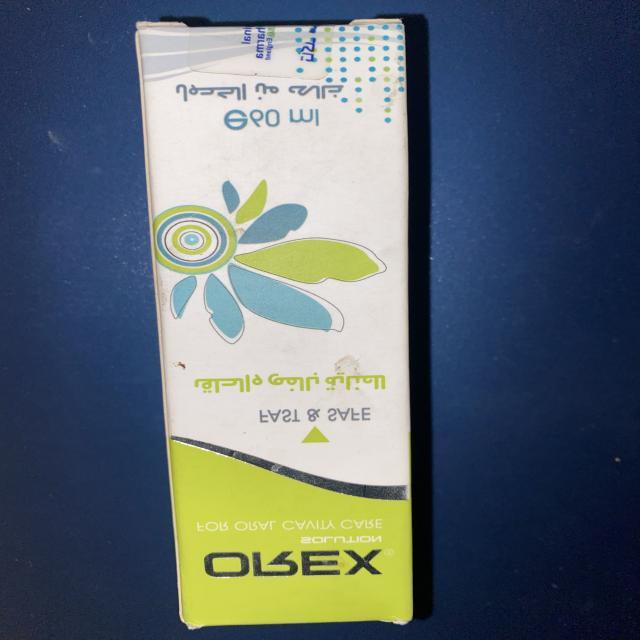Medicine Name: (191, 545, 401, 587)
